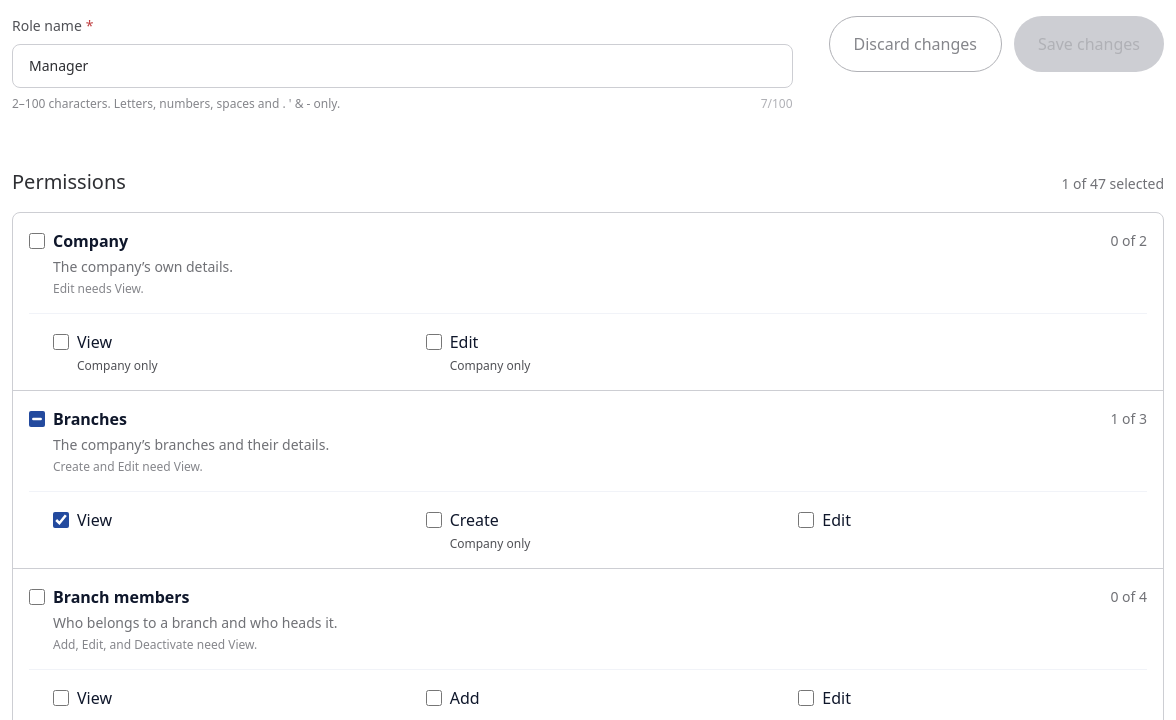
Test case: AccessRoleForm › counts changes to an existing role and needs one before saving
Expected: the button "Save changes" is disabled, x1=1014 y1=16 x2=1164 y2=72
Click the checkbox labelled "Create": (434, 520) x1=426 y1=512 x2=442 y2=528
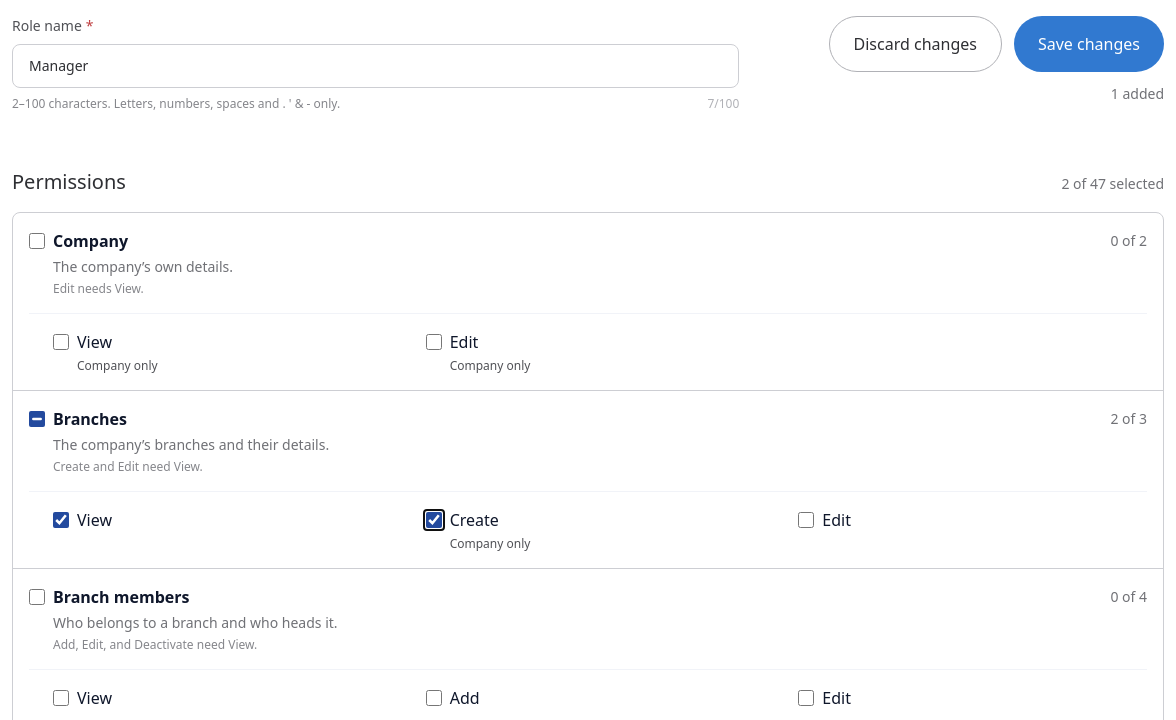
Expected: the text "1 added" is shown, x1=1111 y1=84 x2=1164 y2=103
Expected: the button "Save changes" is enabled, x1=1014 y1=16 x2=1164 y2=72
